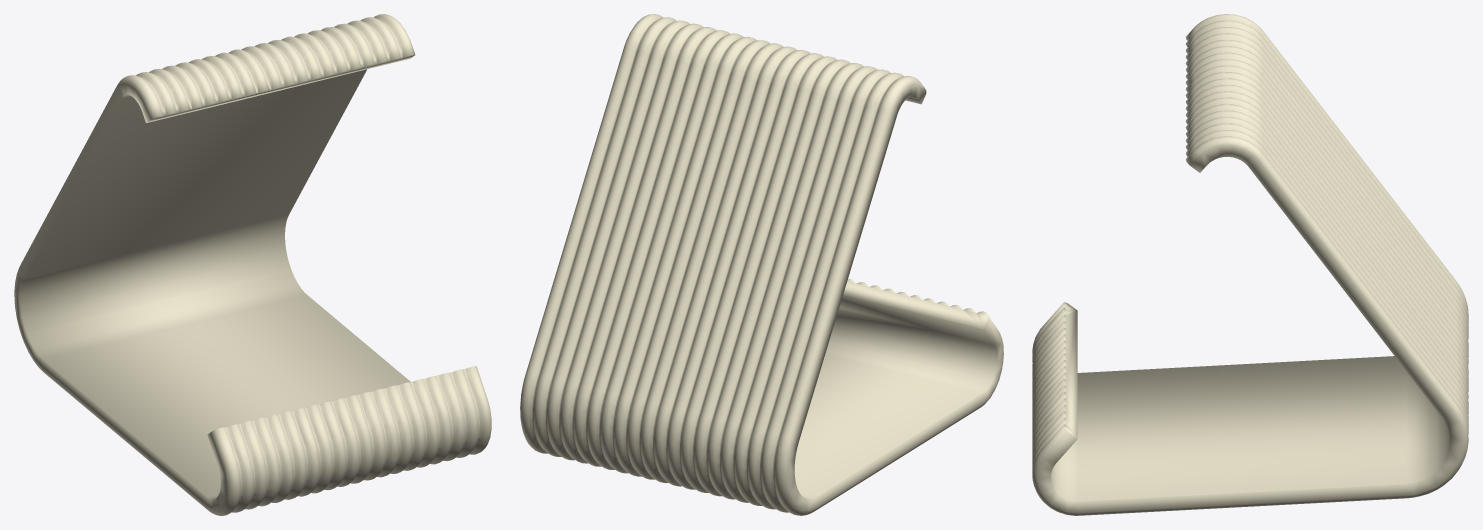
Rendered from telefon-standi.glb.
3 views of the same model, side by side, from view 1: azimuth 30°, elevation 25°; view 2: azimuth 150°, elevation 25°; view 3: azimuth 270°, elevation 25° (orthographic).
Parts seen in each view (by area): view 1: Body; view 2: Body; view 3: Body.
Part boxes in pixels (bbox=[...]): Body: bbox=[14, 14, 491, 515]; Body: bbox=[520, 14, 1003, 515]; Body: bbox=[1032, 14, 1468, 515].
Bounding box in the file's own units: 0.058 × 0.0795 × 0.0832.
